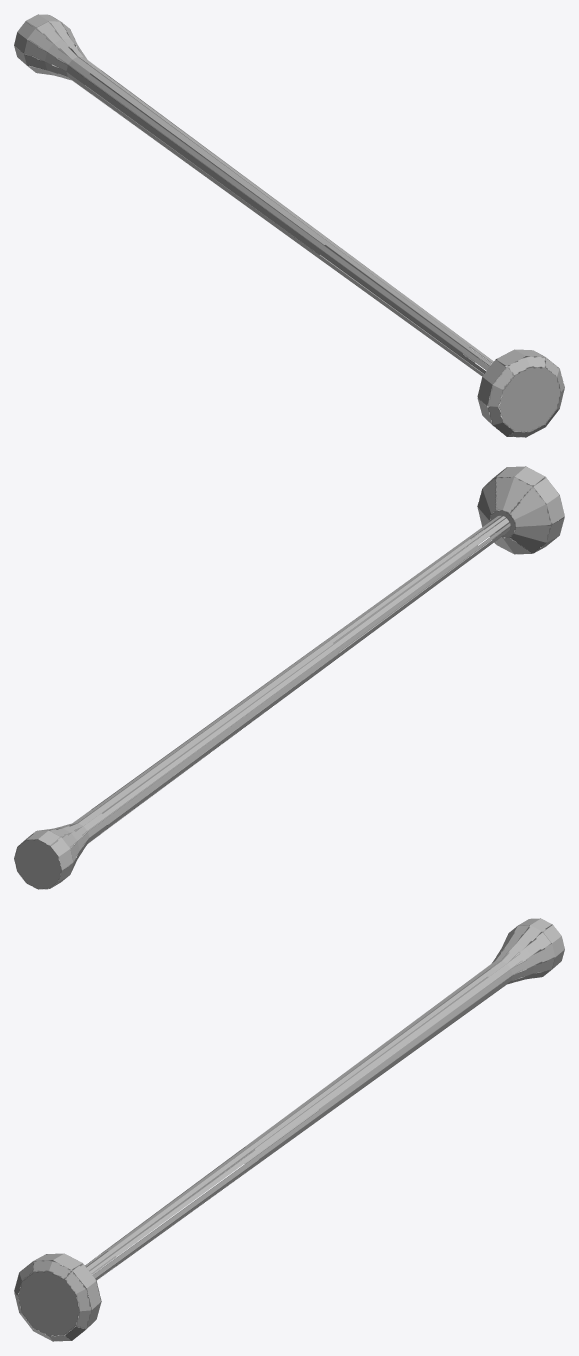
The model's file is pz_street_pole_02.obj.
The picture shows the model from 3 angles, top to bottom: view 1: azimuth 30°, elevation 25°; view 2: azimuth 150°, elevation 25°; view 3: azimuth 330°, elevation 25°; orthographic projection.
Parts seen in each view (by area): view 1: pz_street_pole_02_|_tapered_native_street_pole, pz_street_pole_02_|_rounded_native_lamp_head; view 2: pz_street_pole_02_|_tapered_native_street_pole, pz_street_pole_02_|_rounded_native_lamp_head; view 3: pz_street_pole_02_|_tapered_native_street_pole, pz_street_pole_02_|_rounded_native_lamp_head.
Part boxes in pixels (x1,y1,x2,y2): pz_street_pole_02_|_tapered_native_street_pole: (14,14,509,387); pz_street_pole_02_|_rounded_native_lamp_head: (477,349,564,437); pz_street_pole_02_|_tapered_native_street_pole: (14,515,511,889); pz_street_pole_02_|_rounded_native_lamp_head: (477,466,564,554); pz_street_pole_02_|_tapered_native_street_pole: (70,918,564,1286); pz_street_pole_02_|_rounded_native_lamp_head: (14,1253,101,1341).
Size of the model in its own units: 0.23 by 0.23 by 2.52.
Materials: 1 (1 with a texture image).
